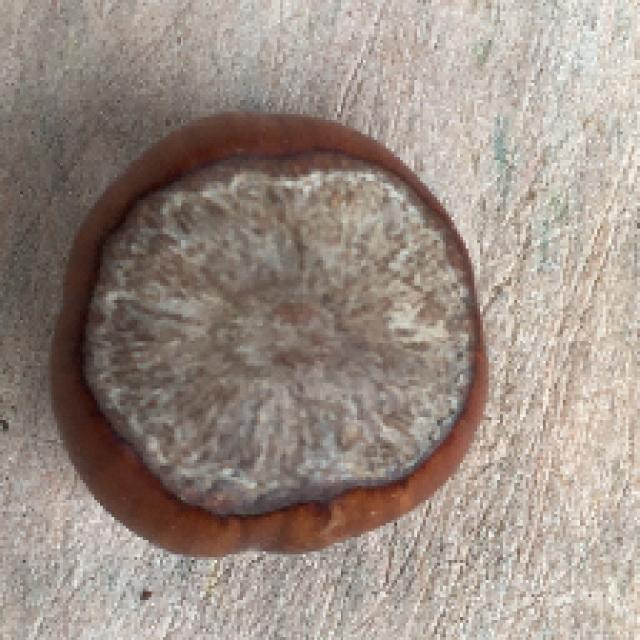qualityHazelnut: (47, 109, 493, 563)
